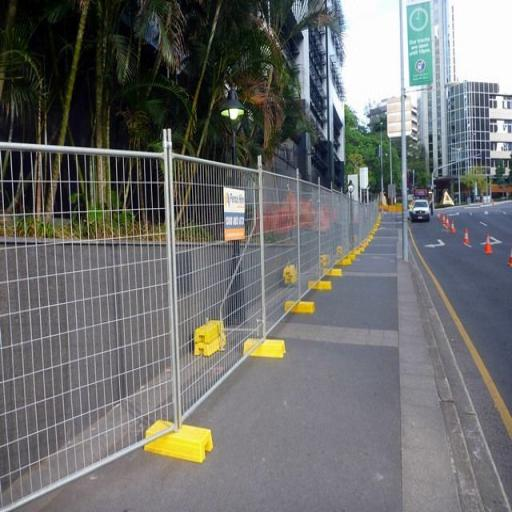book: (410, 199, 430, 222)
bus_stop: (0, 130, 378, 510)
elevator: (399, 0, 408, 261)
glass_wall: (410, 202, 512, 496)
